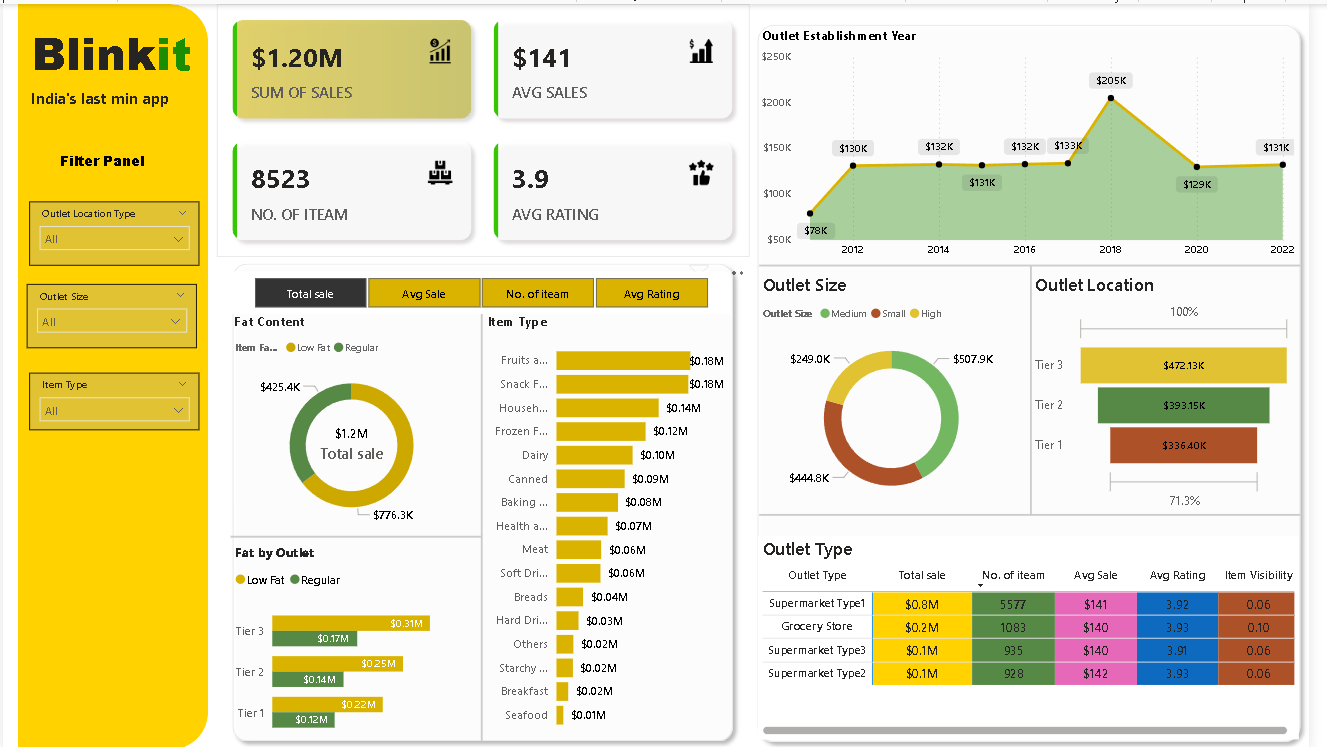

What the dashboard file says about the page in this screenshot:
{"tool":"powerbi","page":{"name":"Page 1","canvas":[1400,800],"ordinal":0},"visuals":[{"type":"shape","box":[16.5,0,204.1,800],"z":0},{"type":"textbox","box":[25.5,13.5,195.1,81],"z":1000},{"type":"textbox","box":[25.5,84,204.1,51],"z":2000},{"type":"cardVisual","fields":{"Data":["Sum(BlinkIT Grocery Data.Sales)","BlinkIT Grocery Data.Avg Sale","BlinkIT Grocery Data.No. of iteam","BlinkIT Grocery Data.Avg Rating"]},"box":[229.6,0,570.3,270.2],"z":3000},{"type":"shape","box":[236.7,270,554.4,530],"z":4000},{"type":"donutChart","title":" Fat Content","fields":{"Y":["BlinkIT Grocery Data.Total sale"],"Category":["BlinkIT Grocery Data.Item Fat Content"]},"box":[244.3,331.4,260,238.6],"z":5000},{"type":"slicer","fields":{"Values":["Metrics.Metrics"]},"box":[244.3,287.1,535.7,45.7],"z":6000},{"type":"cardVisual","fields":{"Data":["BlinkIT Grocery Data.Total sale"]},"box":[322.9,434.3,102.9,62.9],"z":7000},{"type":"clusteredBarChart","title":"Fat  by Outlet","fields":{"Y":["BlinkIT Grocery Data.Total sale"],"Category":["BlinkIT Grocery Data.Outlet Location Type"],"Series":["BlinkIT Grocery Data.Item Fat Content"]},"box":[244.3,578.6,260,221.4],"z":8000},{"type":"shape","box":[394.3,332.9,238.6,458.6],"z":9000},{"type":"shape","box":[244.3,425.7,270,290],"z":10000},{"type":"barChart","title":"Item Type","fields":{"Y":["BlinkIT Grocery Data.Total sale"],"Category":["BlinkIT Grocery Data.Item Type"]},"box":[514.3,331.4,265.7,457.1],"z":11000},{"type":"shape","box":[800,12.9,600,787.1],"z":11001},{"type":"lineChart","title":"Outlet Establishment Year","fields":{"Y":["BlinkIT Grocery Data.Total sale"],"Category":["BlinkIT Grocery Data.Outlet Establishment Year"]},"box":[810,23.8,580,256.2],"z":11002},{"type":"shape","box":[811.2,228.8,580,102.5],"z":11003},{"type":"donutChart","title":"Outlet Size","fields":{"Category":["BlinkIT Grocery Data.Outlet Size"],"Y":["BlinkIT Grocery Data.Total sale"]},"box":[810,288.8,286.2,260],"z":11004},{"type":"shape","box":[987.5,280,228.8,268.8],"z":11005},{"type":"funnel","title":"Outlet Location","fields":{"Y":["Sum(BlinkIT Grocery Data.Sales)"],"Category":["BlinkIT Grocery Data.Outlet Location Type"]},"box":[1101.2,288.8,285,260],"z":11006},{"type":"shape","box":[811.2,496.2,580,103.8],"z":11007},{"type":"pivotTable","title":"Outlet Type","fields":{"Rows":["BlinkIT Grocery Data.Outlet Type"],"Values":["BlinkIT Grocery Data.Total sale","BlinkIT Grocery Data.No. of iteam","BlinkIT Grocery Data.Avg Sale","BlinkIT Grocery Data.Avg Rating","Avg(BlinkIT Grocery Data.Item Visibility)"]},"box":[810,571.2,580,217.5],"z":11008},{"type":"slicer","fields":{"Values":["BlinkIT Grocery Data.Outlet Location Type"]},"box":[27.5,211.2,182.5,68.8],"z":11009},{"type":"slicer","fields":{"Values":["BlinkIT Grocery Data.Outlet Size"]},"box":[25,300,182.5,68.8],"z":11010},{"type":"slicer","fields":{"Values":["BlinkIT Grocery Data.Item Type"]},"box":[27.5,395,182.5,61.2],"z":11011},{"type":"textbox","box":[56.2,152.5,132.5,42.5],"z":11012}]}

Visuals, with their boxes in screenshot pixels (x1, y1, x2, y2), scaled from the page's 1400x800 canvas onto the 1327x747 screenshot:
shape: (16,0,209,746)
textbox: (24,13,209,88)
textbox: (24,78,218,126)
cardVisual - Sum(BlinkIT Grocery Data.Sales) x BlinkIT Grocery Data.Avg Sale: (218,0,758,252)
shape: (224,252,750,746)
" Fat Content" donutChart: (232,309,478,532)
slicer - Metrics.Metrics: (232,268,739,311)
cardVisual - BlinkIT Grocery Data.Total sale: (306,406,404,464)
"Fat  by Outlet" clusteredBarChart: (232,540,478,746)
shape: (374,311,600,739)
shape: (232,397,487,668)
"Item Type" barChart: (487,309,739,736)
shape: (758,12,1326,746)
"Outlet Establishment Year" lineChart: (768,22,1318,261)
shape: (769,214,1319,309)
"Outlet Size" donutChart: (768,270,1039,512)
shape: (936,261,1153,512)
"Outlet Location" funnel: (1044,270,1314,512)
shape: (769,463,1319,560)
"Outlet Type" pivotTable: (768,533,1318,736)
slicer - BlinkIT Grocery Data.Outlet Location Type: (26,197,199,261)
slicer - BlinkIT Grocery Data.Outlet Size: (24,280,197,344)
slicer - BlinkIT Grocery Data.Item Type: (26,369,199,426)
textbox: (53,142,179,182)
